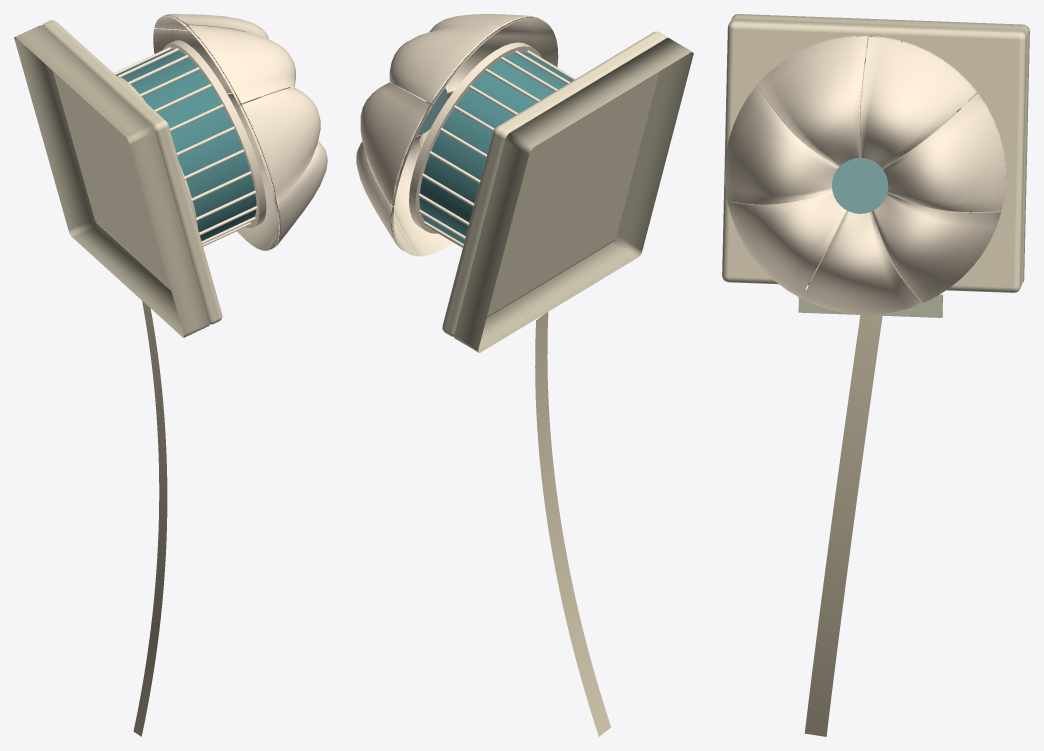
File: gallery.glb
3 renders of one model, left to right at view 1: azimuth 30°, elevation 25°; view 2: azimuth 150°, elevation 25°; view 3: azimuth 270°, elevation 25°, orthographic. The views are drawn at different scales.
Parts seen in each view (by area): view 1: gallery (×5); view 2: gallery (×5); view 3: gallery (×6).
Part boxes in pixels (x1,y1,x2,y2): gallery (×5): (14, 14, 327, 736); gallery (×5): (356, 14, 693, 736); gallery (×6): (722, 14, 1029, 736).
Bounding box in the file's own units: 0.3546 × 0.9645 × 0.3633.
